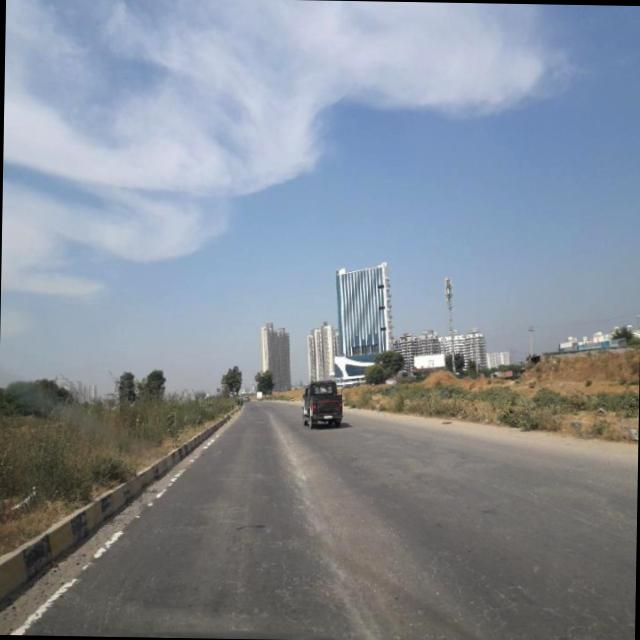crack: (205, 548, 628, 640)
pothole: (210, 511, 272, 538)
